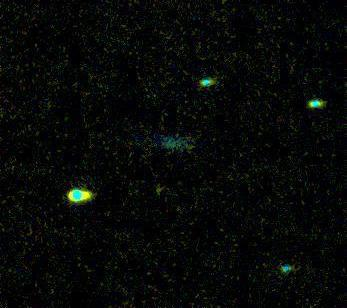star: (143, 174, 173, 204)
